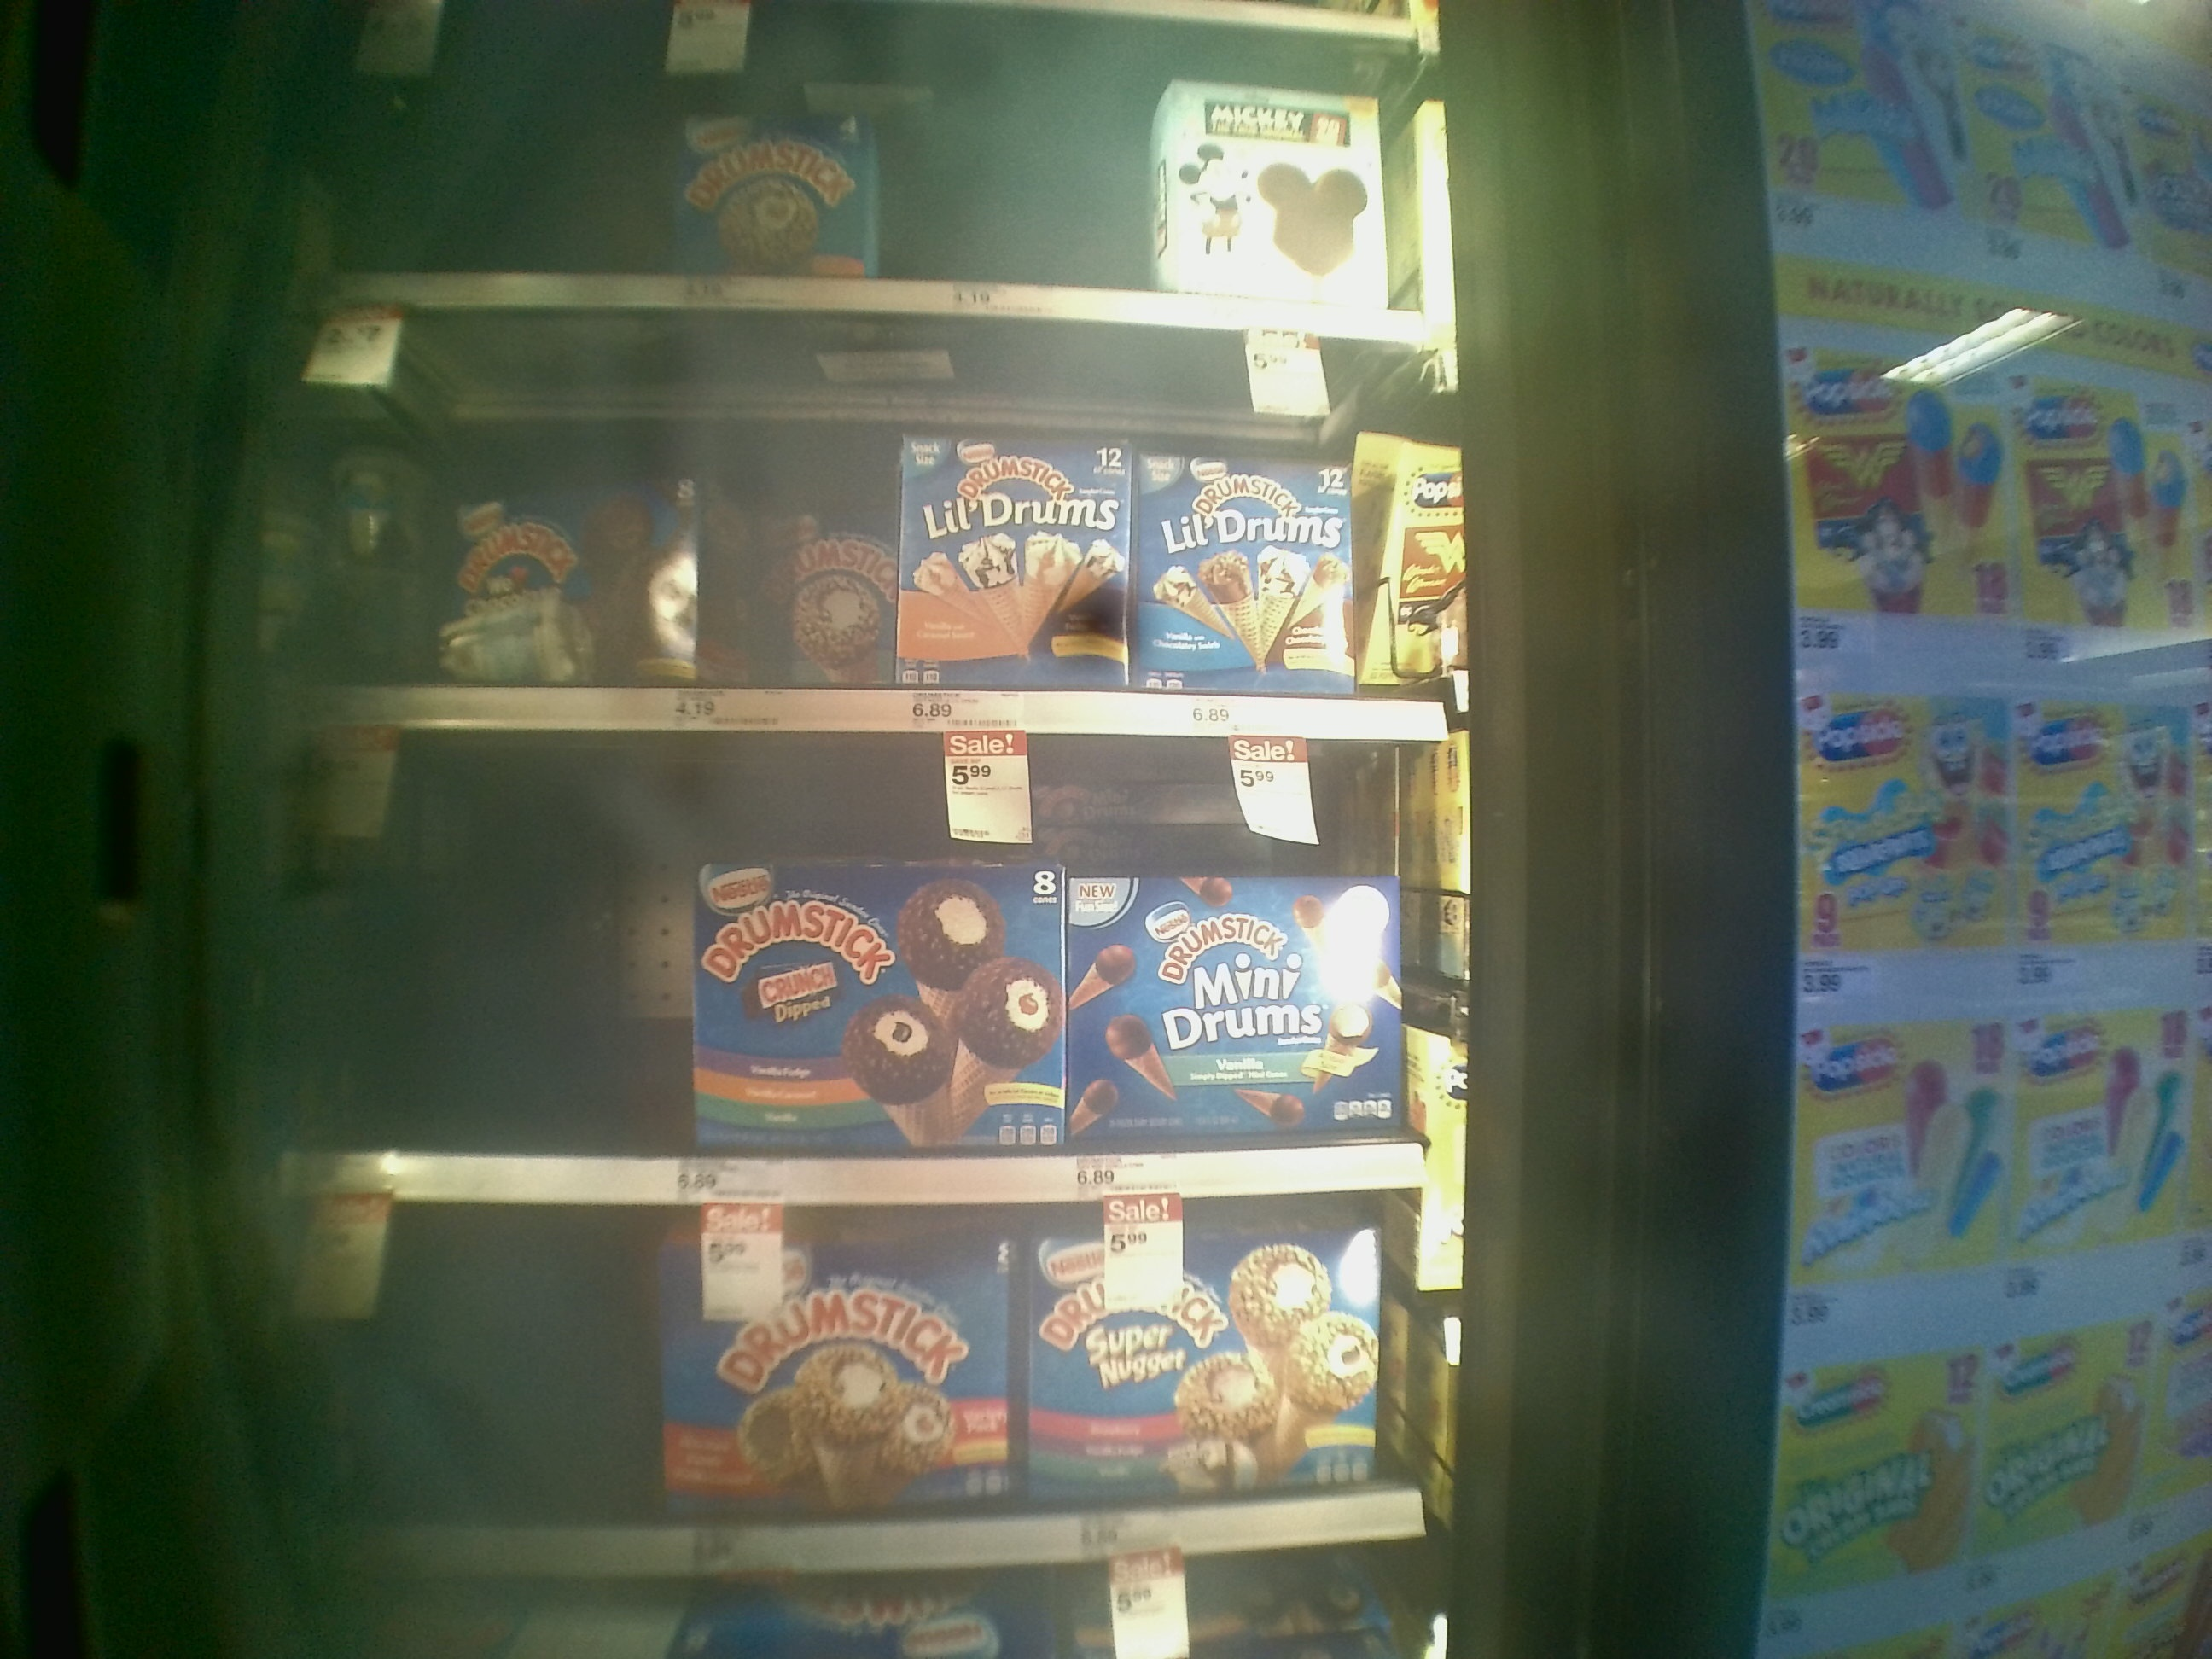shelf: (331, 732, 1470, 1202), (331, 307, 1453, 734), (331, 1208, 1460, 1584)
